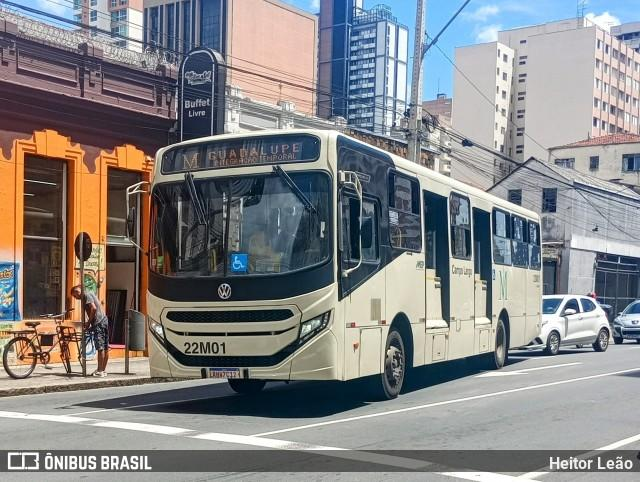GUADALUPE: (205, 140, 303, 163)
